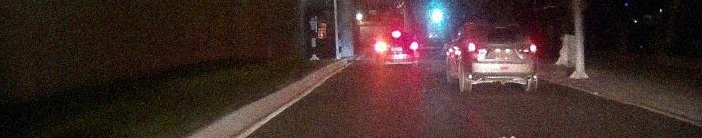L_light: (467, 43, 485, 52), (377, 44, 387, 49)
R_light: (521, 45, 536, 52), (410, 43, 418, 49)
T_light: (493, 26, 505, 31), (392, 33, 401, 37)
night-left: (377, 32, 418, 66)
night-no: (466, 23, 537, 92)
